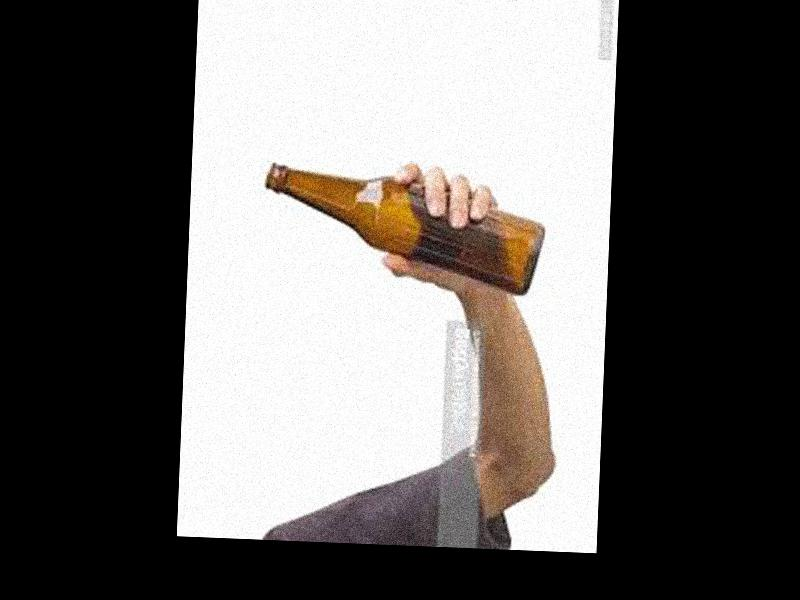Beer: (262, 162, 545, 299)
